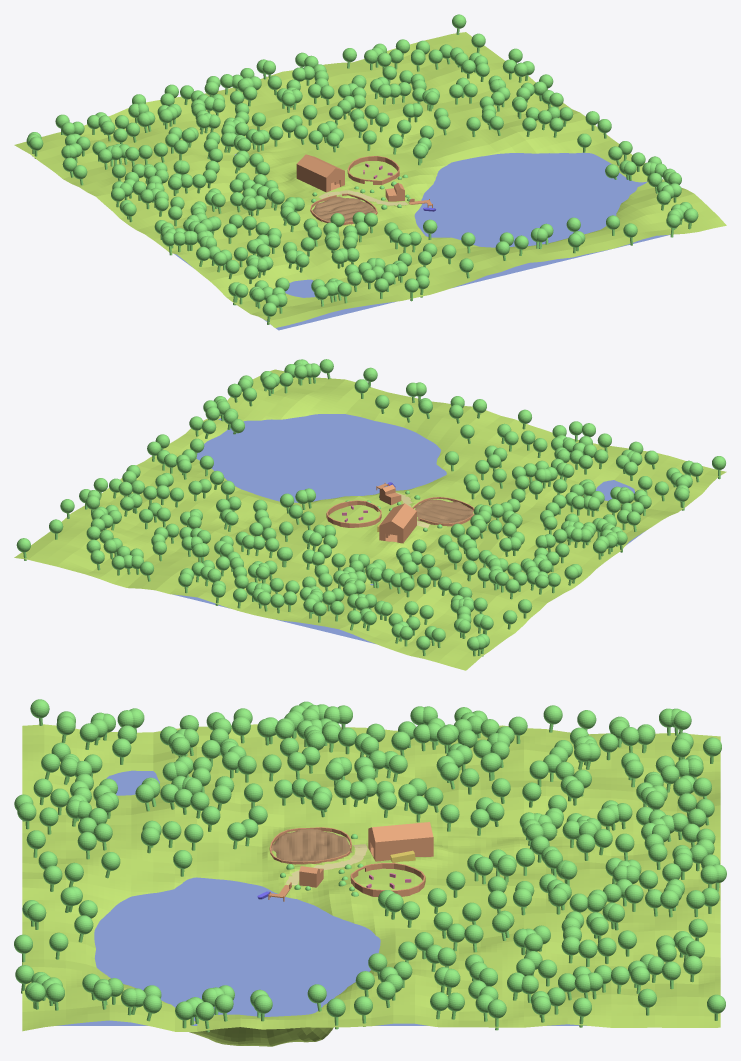
Rendered from greybox.fbx.
3 views of the same model, one above another, from view 1: azimuth 30°, elevation 25°; view 2: azimuth 150°, elevation 25°; view 3: azimuth 270°, elevation 25° (orthographic). The views are drawn at different scales.
Visible parts, largest first — view 1: Plains, Water, Barn, Plane, PenFence; view 2: Plains, Water, Barn, Plane, PenFence; view 3: Plains, Water, Barn, Plane, PenFence, Fence, Road.
Part boxes in pixels (x1=…): Plains: x1=14, y1=14, x2=726, y2=327; Water: x1=174, y1=152, x2=670, y2=330; Barn: x1=296, y1=154, x2=344, y2=192; Plane: x1=312, y1=196, x2=375, y2=224; PenFence: x1=347, y1=156, x2=399, y2=184; Plains: x1=14, y1=359, x2=726, y2=670; Water: x1=172, y1=414, x2=645, y2=643; Barn: x1=379, y1=503, x2=416, y2=543; Plane: x1=415, y1=499, x2=473, y2=523; PenFence: x1=326, y1=500, x2=381, y2=527; Plains: x1=14, y1=699, x2=726, y2=1046; Water: x1=57, y1=770, x2=586, y2=1025; Barn: x1=368, y1=822, x2=433, y2=861; Plane: x1=271, y1=829, x2=351, y2=861; PenFence: x1=350, y1=863, x2=425, y2=896; Fence: x1=269, y1=827, x2=351, y2=864; Road: x1=285, y1=844, x2=367, y2=885.
Size of the model in its own units: 5001 by 870 by 5006.
